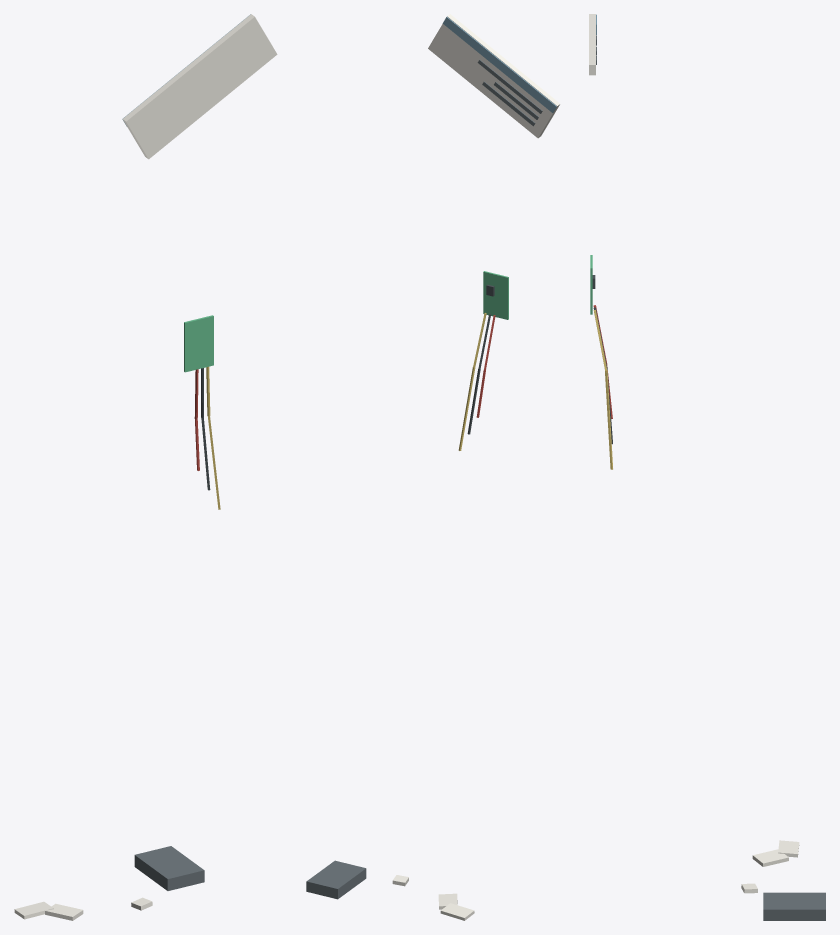
The model's file is door_plate_broken.fbx.
The picture shows the model from 3 angles, left to right: view 1: azimuth 30°, elevation 25°; view 2: azimuth 150°, elevation 25°; view 3: azimuth 270°, elevation 25°; orthographic projection. The views are drawn at different scales.
Parts seen in each view (by area): view 1: door_plate_broken, door_plate_broken_debris; view 2: door_plate_broken, door_plate_broken_debris; view 3: door_plate_broken_debris, door_plate_broken.
Boxes of the visible parts, <box> form: door_plate_broken: <box>122,14,277,509</box>; door_plate_broken_debris: <box>14,846,204,920</box>; door_plate_broken: <box>428,14,559,450</box>; door_plate_broken_debris: <box>306,860,474,920</box>; door_plate_broken_debris: <box>741,840,825,920</box>; door_plate_broken: <box>589,14,612,469</box>.
Bounding box in the file's own units: 32.75 × 173 × 41.6.
